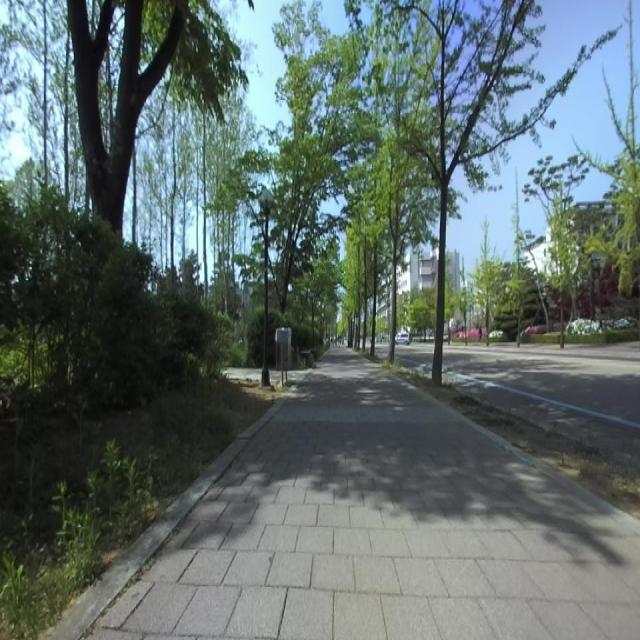sidewalk: (46, 347, 640, 640), (224, 367, 261, 382), (287, 369, 311, 388), (270, 369, 280, 383)
